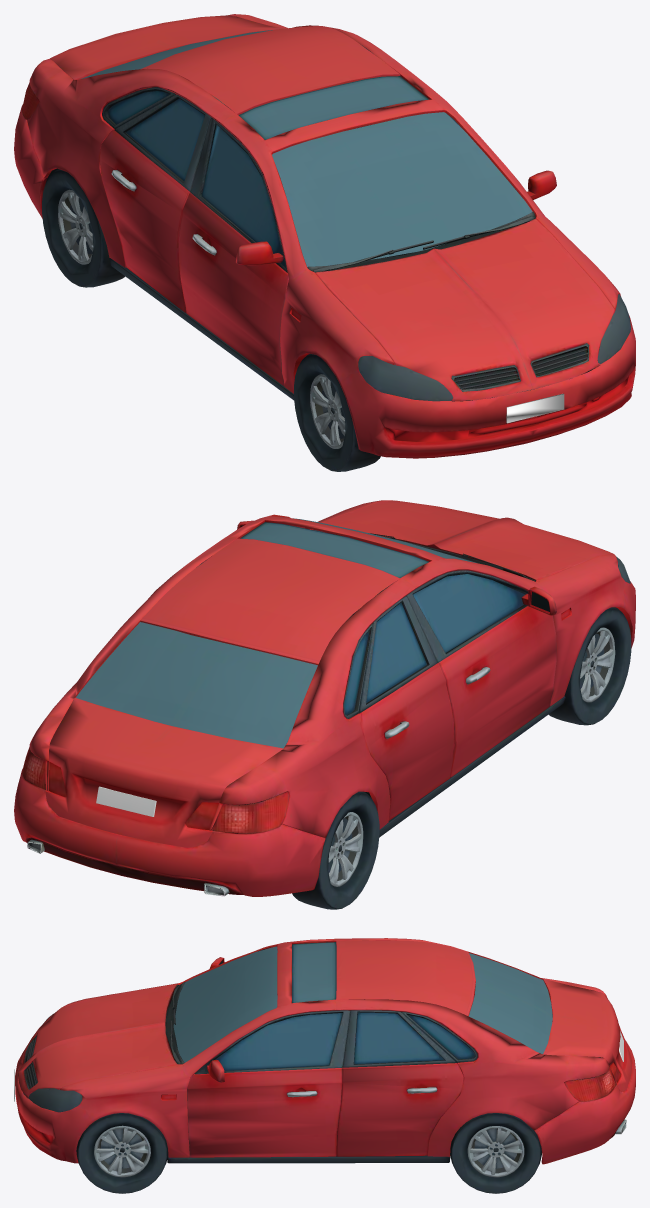
File: sedan.glb
3 renders of one model, top to bottom at view 1: azimuth 30°, elevation 25°; view 2: azimuth 150°, elevation 25°; view 3: azimuth 270°, elevation 25°, orthographic. The views are drawn at different scales.
Visible parts, largest first — view 1: rotor_hub (×2); view 2: rotor_hub; view 3: rotor_hub (×2).
Part boxes in pixels (x1=…): rotor_hub (×2): x1=14, y1=14, x2=635, y2=471; rotor_hub: x1=14, y1=500, x2=635, y2=909; rotor_hub (×2): x1=14, y1=938, x2=635, y2=1193.
Bounding box in the file's own units: 1.35 × 0.9826 × 3.08.
2 materials, 2 textured.
